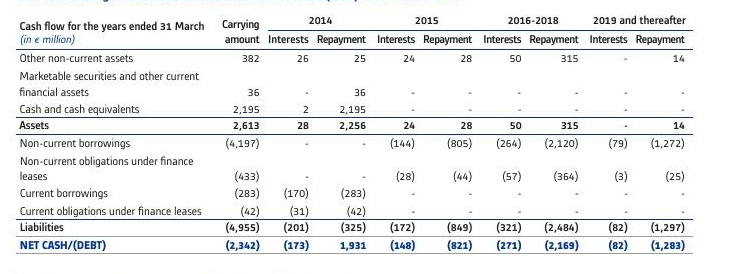table: (0, 0, 731, 274)
